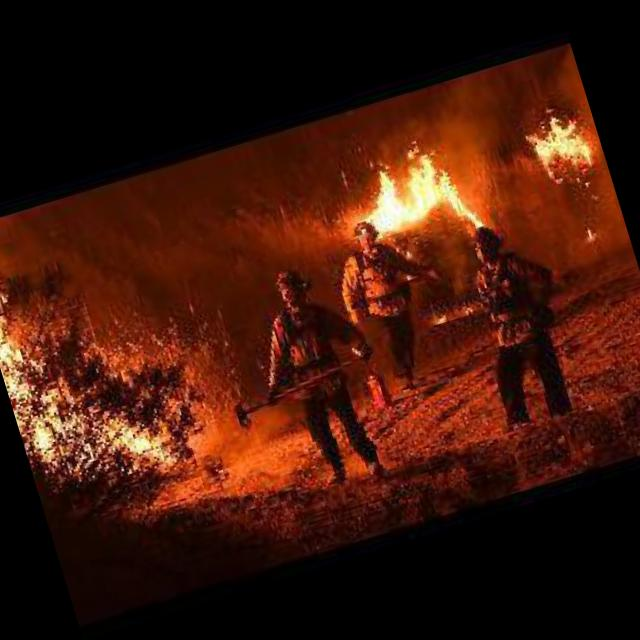fire: (0, 201, 195, 499), (328, 92, 610, 256)
